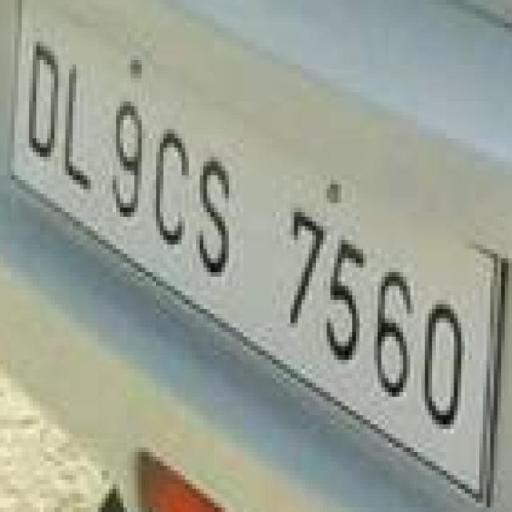number plate: (10, 74, 512, 410)
